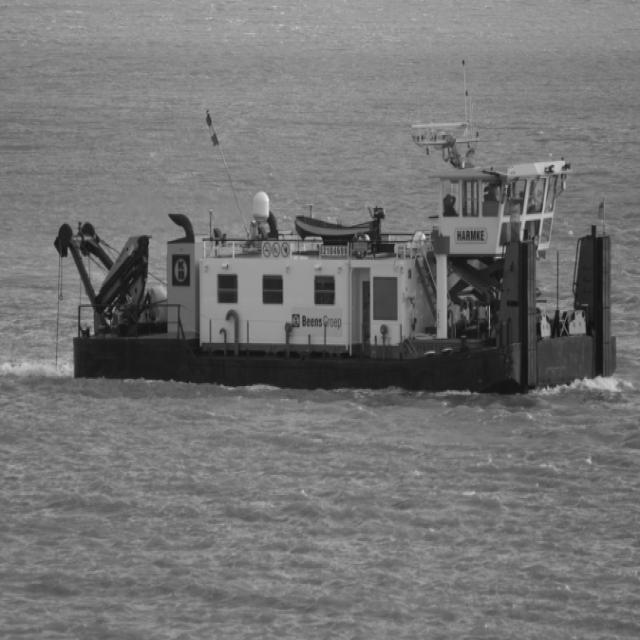tugboat: (51, 118, 628, 422)
